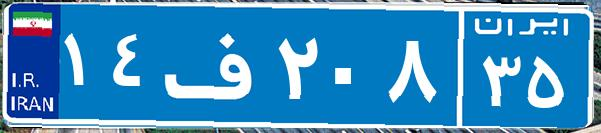0: (330, 28, 385, 110)
1: (57, 26, 110, 107)
2: (273, 28, 330, 110)
3: (475, 38, 525, 113)
4: (110, 28, 158, 105)
5: (525, 38, 570, 115)
8: (385, 28, 445, 110)
ف: (158, 15, 273, 115)
